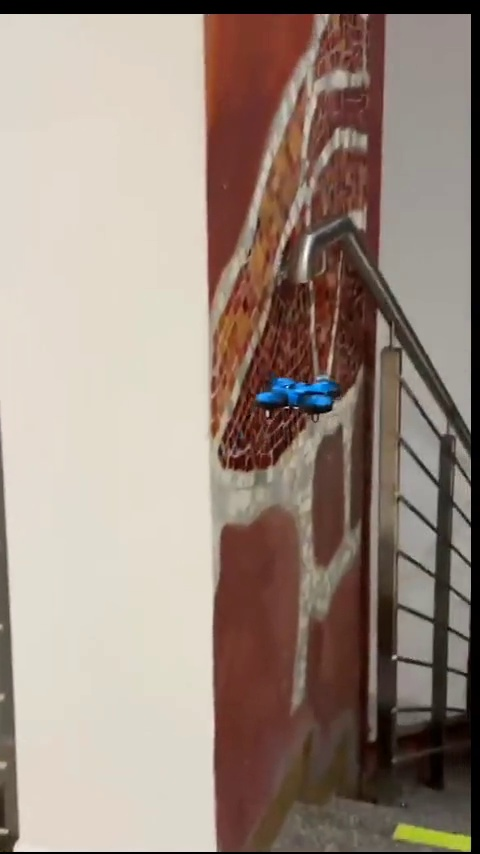drone: (253, 378, 337, 418)
